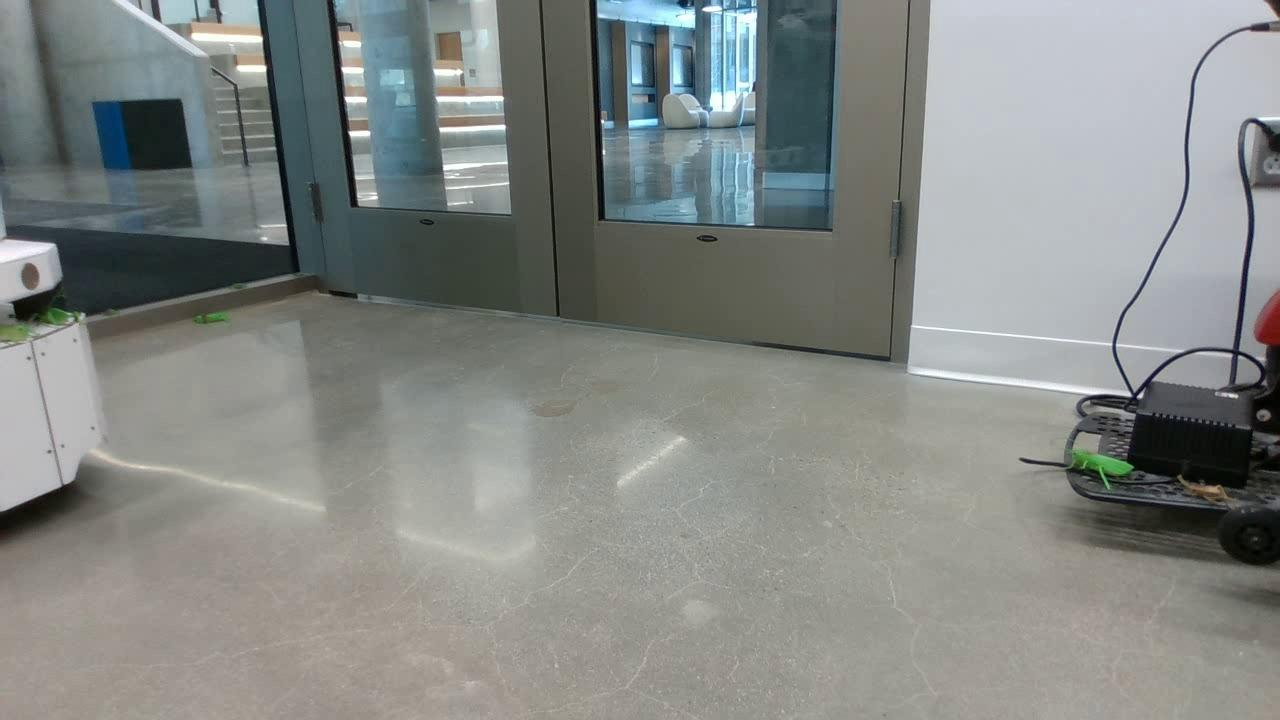grasshopper: (1057, 442, 1131, 492)
